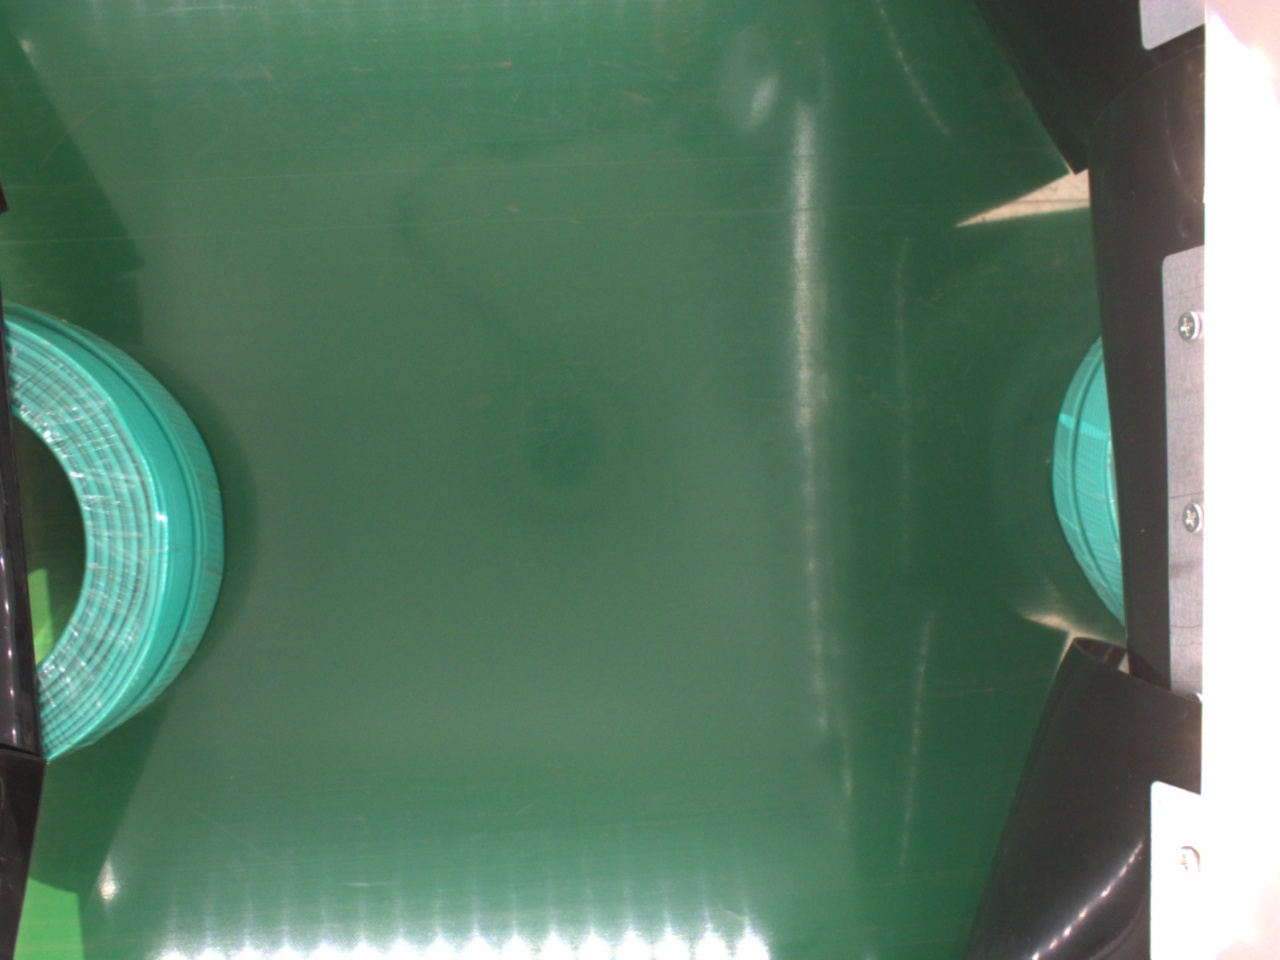green: (14, 306, 229, 760)
